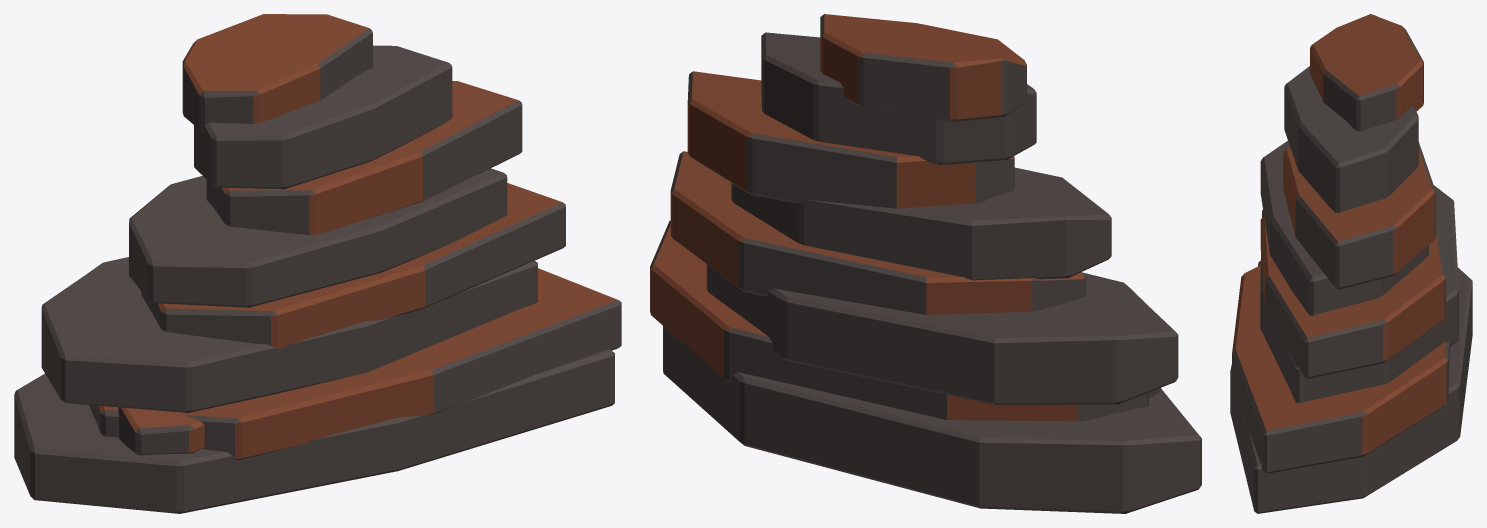
The model's file is rock_hematite_slab_a.glb.
3 views of the same model, side by side, from view 1: azimuth 30°, elevation 25°; view 2: azimuth 150°, elevation 25°; view 3: azimuth 270°, elevation 25° (orthographic). The views are drawn at different scales.
Visible parts, largest first — view 1: rock_hematite_slab_a_lod0; view 2: rock_hematite_slab_a_lod0; view 3: rock_hematite_slab_a_lod0.
Boxes of the visible parts, x1,y1,x2,y2 form: rock_hematite_slab_a_lod0: (14, 14, 621, 513); rock_hematite_slab_a_lod0: (650, 14, 1201, 513); rock_hematite_slab_a_lod0: (1230, 14, 1472, 513).
Size of what is drawn, in the model's own units: 2.95 by 1.99 by 1.27.
